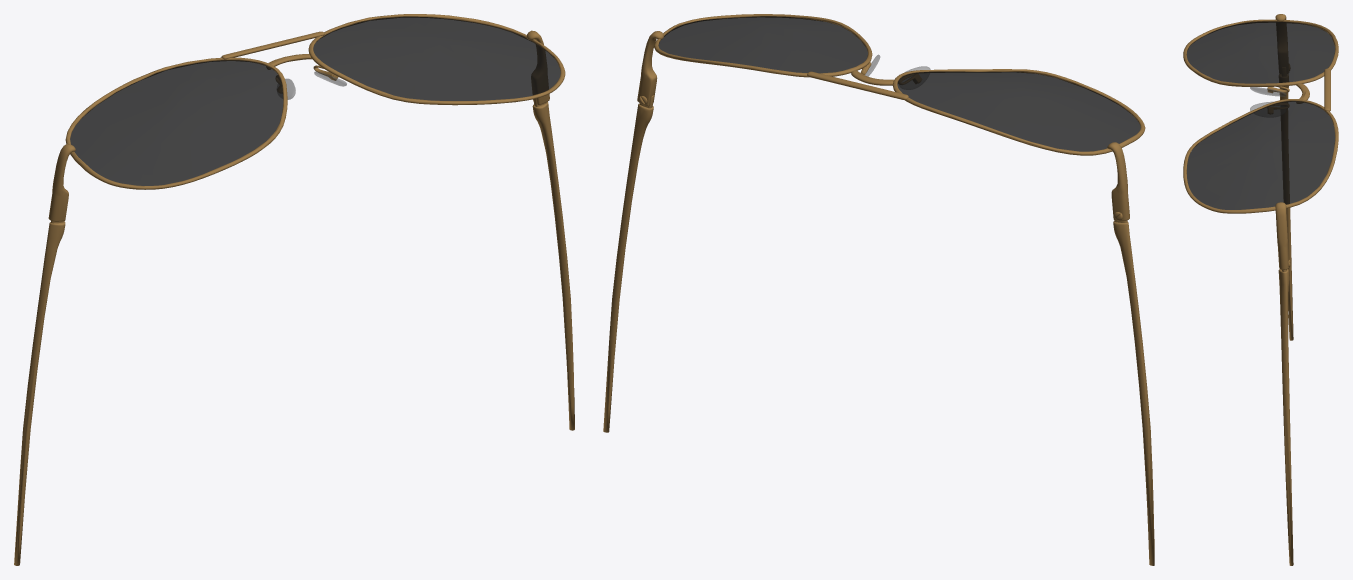
Rendered from aviator5.dae.
The picture shows the model from 3 angles, left to right: view 1: azimuth 30°, elevation 25°; view 2: azimuth 150°, elevation 25°; view 3: azimuth 270°, elevation 25°; orthographic projection. The views are drawn at different scales.
Parts seen in each view (by area): view 1: emandjoejsunglAviator; view 2: emandjoejsunglAviator; view 3: emandjoejsunglAviator.
Boxes of the visible parts, x1,y1,x2,y2 form: emandjoejsunglAviator: (14, 14, 574, 565); emandjoejsunglAviator: (603, 14, 1154, 565); emandjoejsunglAviator: (1183, 14, 1338, 565).
Bounding box in the file's own units: 1.55 × 0.4485 × 1.16.
